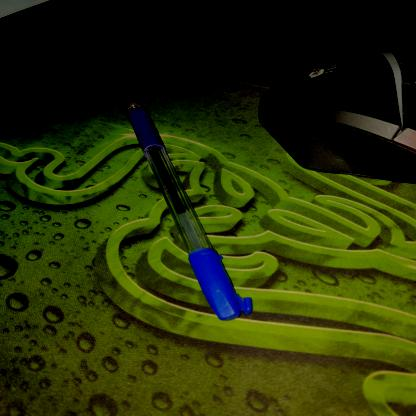Pen: (119, 92, 255, 327)
